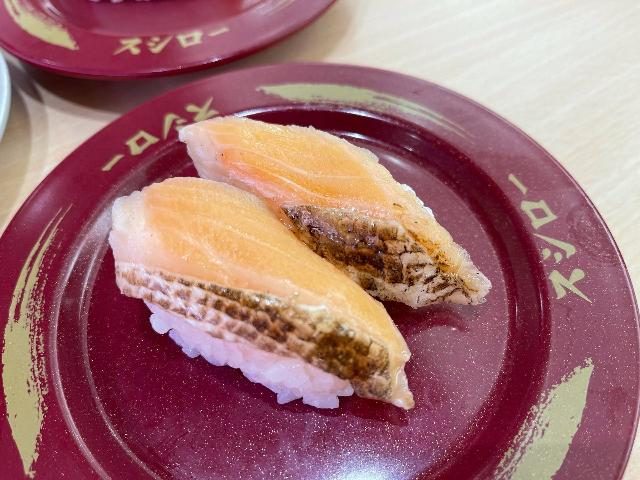janred: (39, 77, 640, 480), (1, 0, 329, 65)
janwhite: (0, 47, 17, 150)
